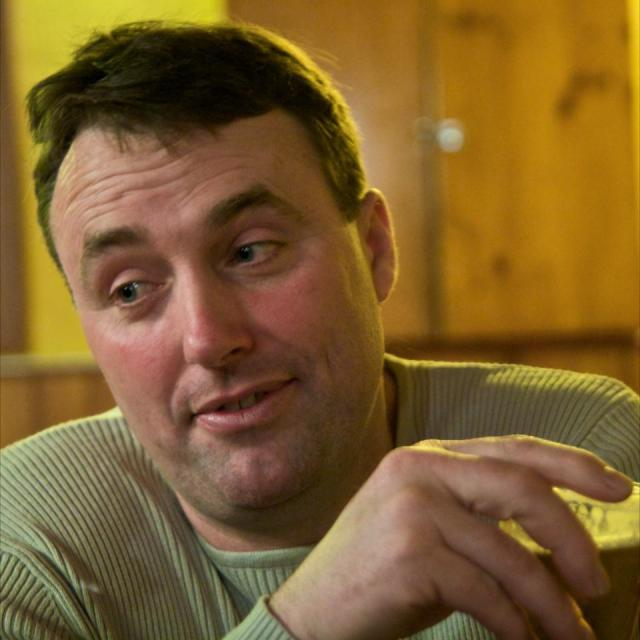Puffy Eyes - v3 Dark Circle: (218, 243, 297, 293), (116, 281, 173, 323)
